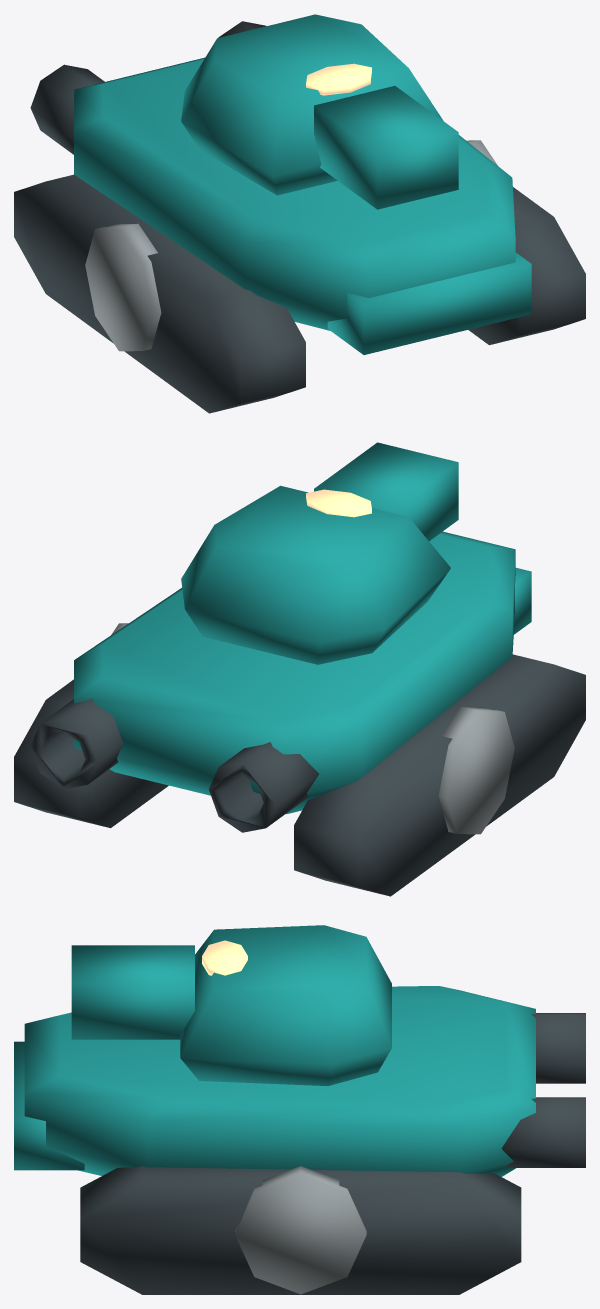
Rendered from TOY_ZIPPER.shadow.glb.
3 views of the same model, one above another, from view 1: azimuth 30°, elevation 25°; view 2: azimuth 150°, elevation 25°; view 3: azimuth 270°, elevation 25° (orthographic). The views are drawn at different scales.
Visible parts, largest first — view 1: Body, TurretYaw, BarrelRecoil, WheelLeft, ChargeEye; view 2: Body, TurretYaw, BarrelRecoil, WheelLeft, ChargeEye; view 3: Body, TurretYaw, WheelRight, BarrelRecoil, ChargeEye.
Boxes of the visible parts, x1,y1,x2,y2 form: Body: [14, 21, 585, 413]; TurretYaw: [181, 14, 443, 195]; BarrelRecoil: [314, 86, 458, 209]; WheelLeft: [85, 223, 161, 351]; ChargeEye: [306, 63, 371, 95]; Body: [14, 531, 585, 896]; TurretYaw: [181, 485, 450, 664]; BarrelRecoil: [314, 442, 458, 541]; WheelLeft: [438, 706, 514, 834]; ChargeEye: [306, 489, 371, 517]; Body: [14, 986, 585, 1294]; TurretYaw: [180, 925, 391, 1085]; WheelRight: [235, 1166, 366, 1294]; BarrelRecoil: [71, 945, 194, 1039]; ChargeEye: [202, 940, 247, 975].
Size of the model in its own units: 0.69 by 0.4825 by 0.973.
